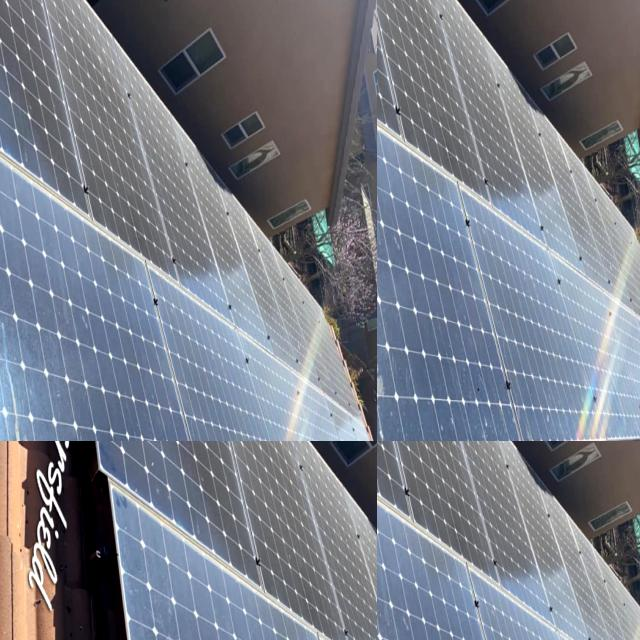bird: (218, 448, 276, 502), (188, 522, 225, 580), (190, 606, 237, 640), (142, 527, 180, 568), (246, 554, 292, 584), (284, 482, 310, 531), (257, 607, 294, 640), (92, 539, 119, 584), (240, 524, 281, 550), (295, 539, 326, 573), (282, 441, 307, 481)
dust: (442, 468, 522, 597), (377, 441, 458, 531), (377, 518, 429, 640), (539, 567, 619, 640), (419, 581, 507, 640)
